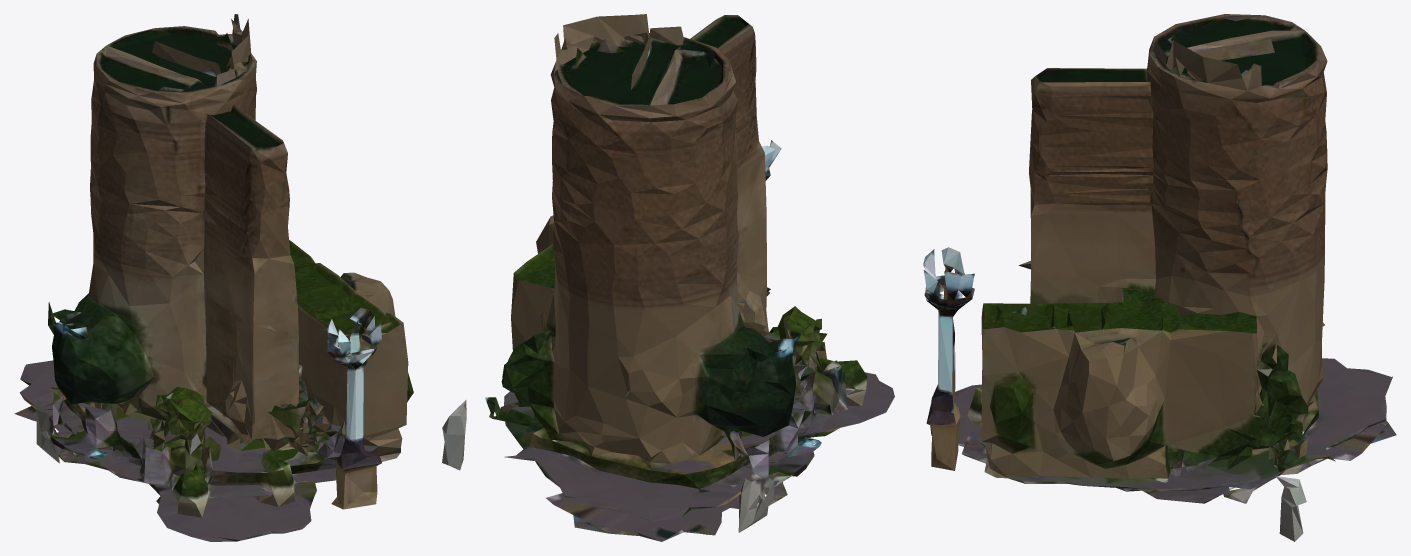
File: torre_doncella.glb
3 renders of one model, left to right at view 1: azimuth 30°, elevation 25°; view 2: azimuth 150°, elevation 25°; view 3: azimuth 270°, elevation 25°, orthographic. The views are drawn at different scales.
Visible parts, largest first — view 1: tmpbstospcq.ply; view 2: tmpbstospcq.ply; view 3: tmpbstospcq.ply.
Part boxes in pixels (x1,y1,x2,y2): tmpbstospcq.ply: (14,14,413,541); tmpbstospcq.ply: (442,14,894,541); tmpbstospcq.ply: (923,14,1396,541).
Size of the model in its own units: 1.5 by 1.99 by 1.97.
Materials: 1 (1 with a texture image).
